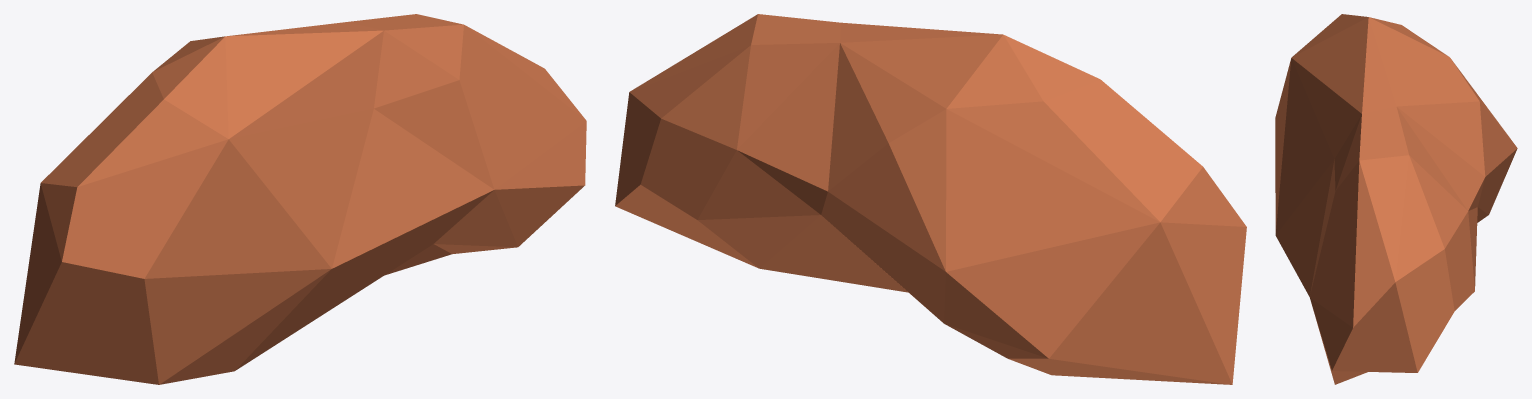
The model's file is Small_LongRock2.fbx.
The picture shows the model from 3 angles, left to right: view 1: azimuth 30°, elevation 25°; view 2: azimuth 150°, elevation 25°; view 3: azimuth 270°, elevation 25°; orthographic projection. The views are drawn at different scales.
Parts seen in each view (by area): view 1: Small_LongRock2; view 2: Small_LongRock2; view 3: Small_LongRock2.
Part boxes in pixels (x1,y1,x2,y2): Small_LongRock2: (14,14,586,384); Small_LongRock2: (615,14,1246,384); Small_LongRock2: (1275,14,1517,384).
Bounding box in the file's own units: 4.64 × 2.38 × 1.87.
